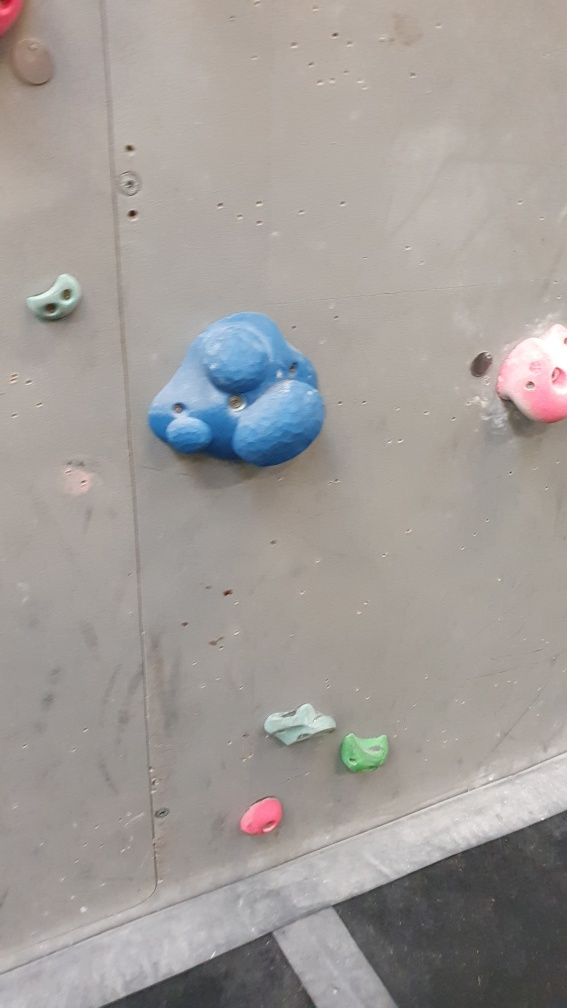Sloper: (144, 307, 327, 468)
